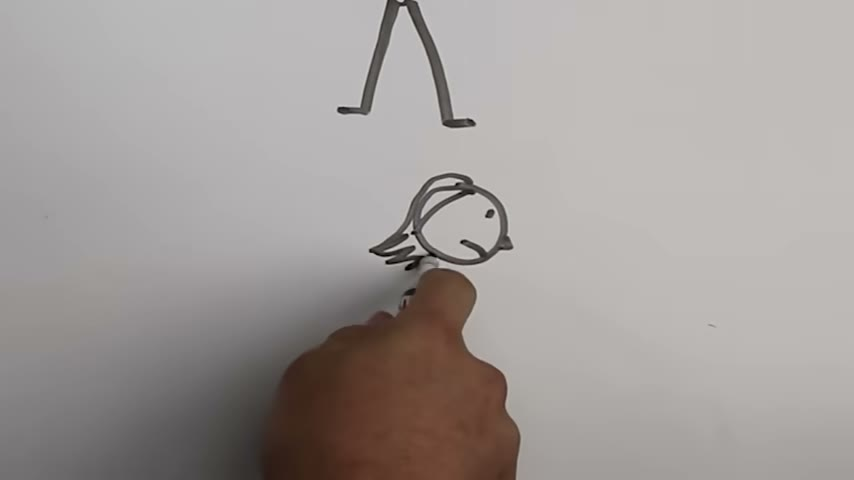barbell_plate_side: (459, 171, 517, 296), (334, 0, 388, 120)
